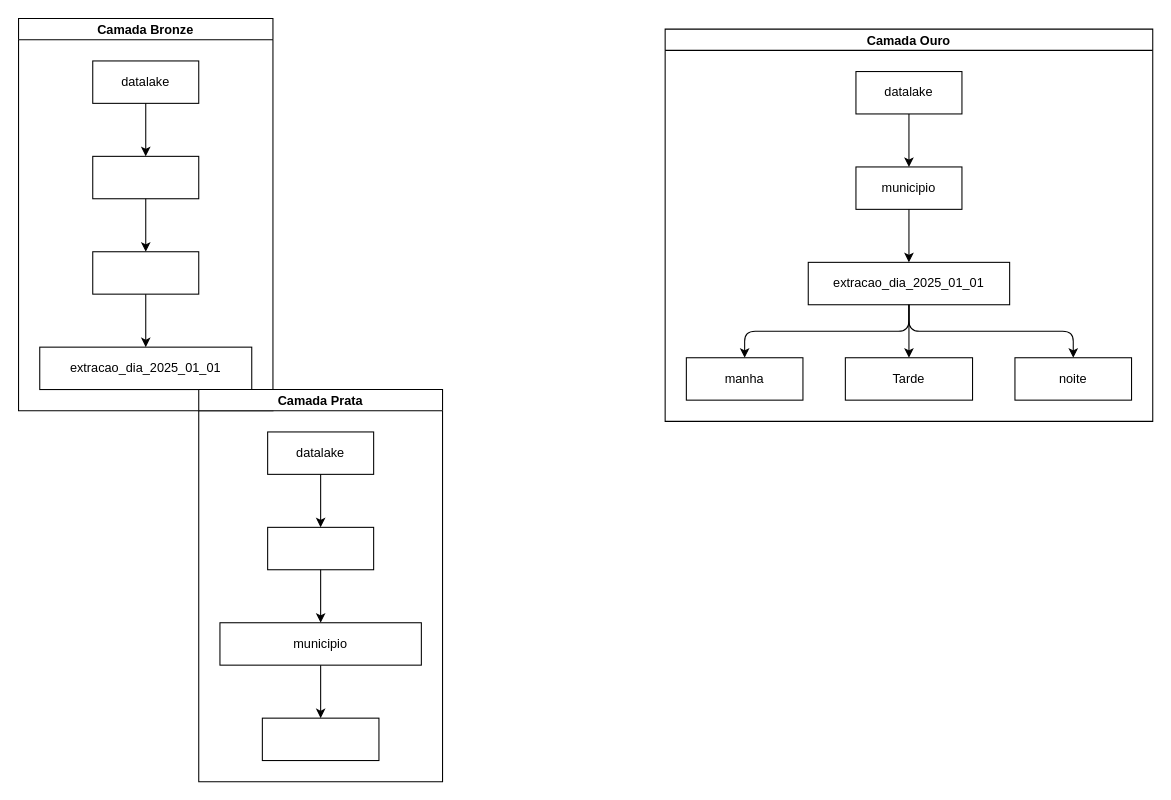
Image size: 1171x800. Some labels were removed from this diagram. The centre of each missing label's shape, as x and y in pixels:
"arq.json" goes at point 320,739.
"Bronze" goes at point 145,177.
"Múnicipio" goes at point 145,272.
"prata" goes at point 320,548.
